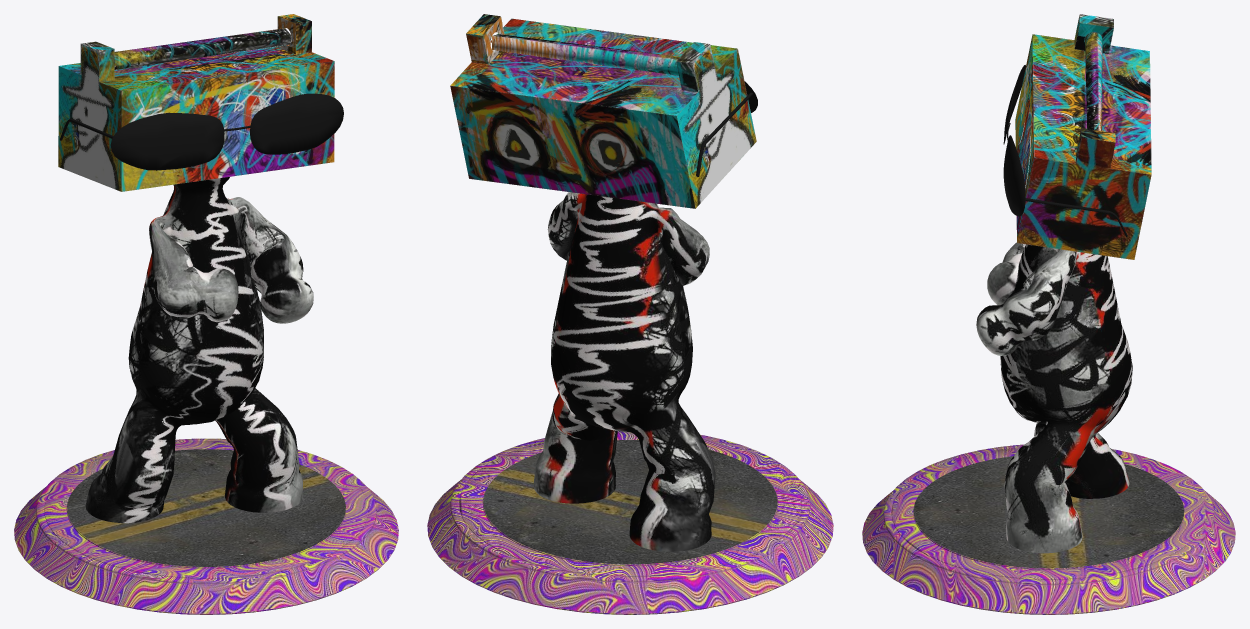
3 renders of one model, left to right at view 1: azimuth 30°, elevation 25°; view 2: azimuth 150°, elevation 25°; view 3: azimuth 270°, elevation 25°, orthographic. The views are drawn at different scales.
Bounding box in the file's own units: 1.45 × 2.05 × 1.45.
Materials: 5 (4 with a texture image).
